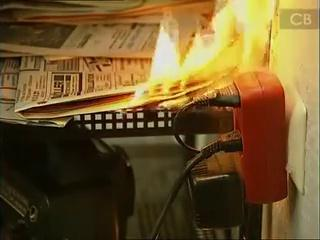Fire: (120, 1, 265, 115)
